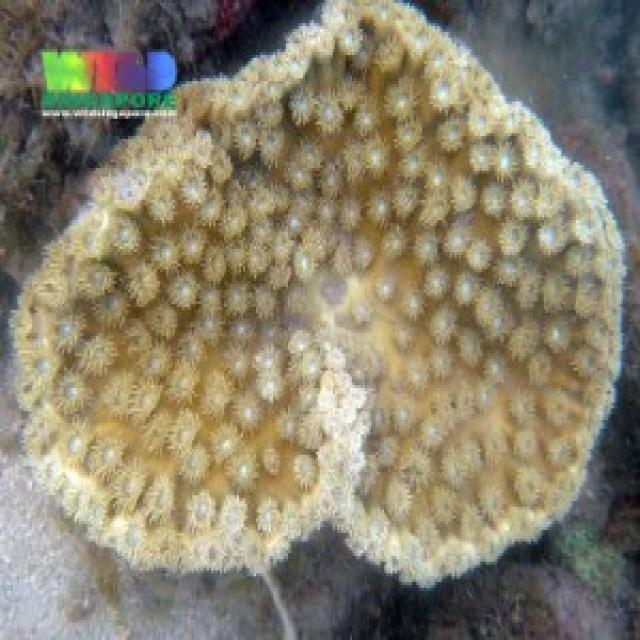Bleached: (12, 1, 624, 583)
